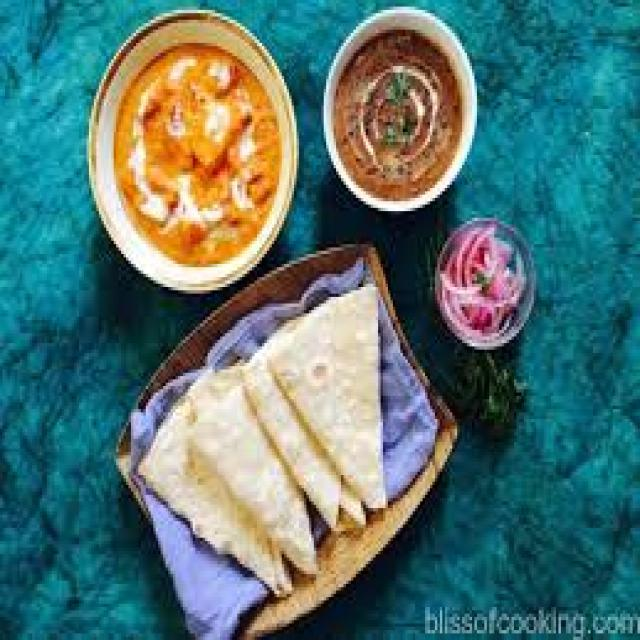ROTI: (141, 363, 336, 591), (267, 290, 383, 505)
